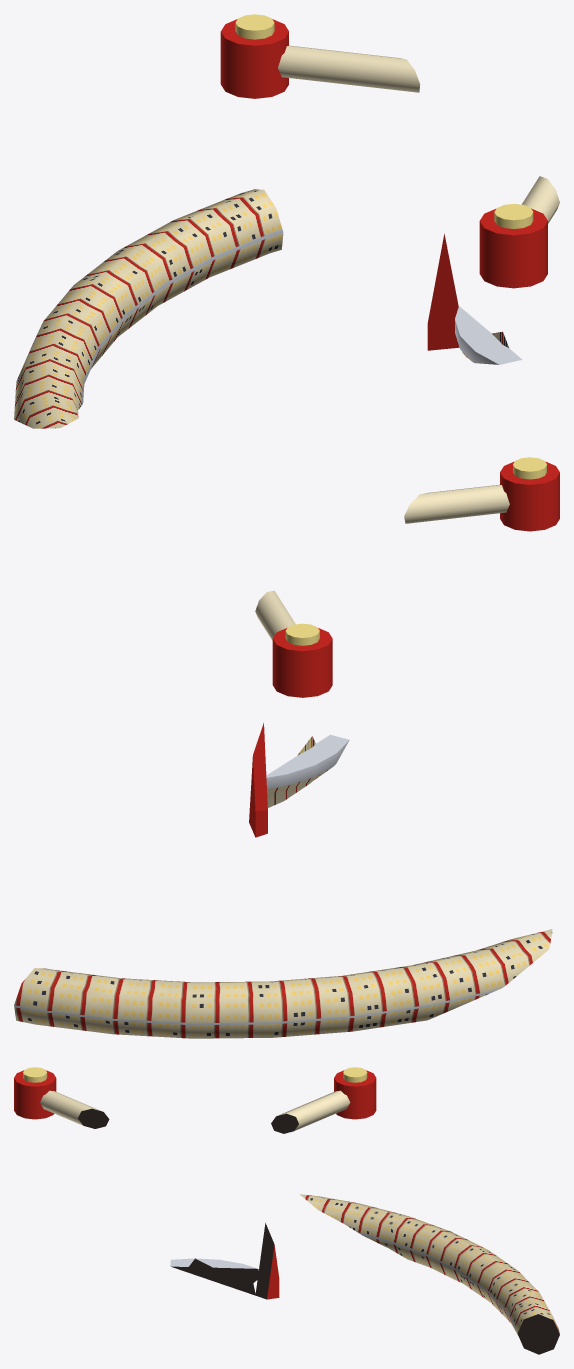
File: guard_station_debris2.obj
The picture shows the model from 3 angles, top to bottom: view 1: azimuth 30°, elevation 25°; view 2: azimuth 150°, elevation 25°; view 3: azimuth 270°, elevation 25°; orthographic projection. The views are drawn at different scales.
Visible parts, largest first — view 1: ring, cradle, arm, buttress315, tower, cradle_light; view 2: ring, cradle, arm, tower, buttress315, cradle_light; view 3: ring, arm, cradle, tower, buttress315, cradle_light.
Boxes of the visible parts, x1,y1,x2,y2 form: ring: [14, 189, 283, 428]; cradle: [220, 19, 547, 288]; arm: [278, 45, 559, 223]; buttress315: [427, 233, 459, 350]; tower: [455, 306, 522, 364]; cradle_light: [235, 14, 533, 228]; ring: [14, 929, 552, 1038]; cradle: [272, 461, 559, 697]; arm: [255, 484, 509, 640]; tower: [266, 734, 349, 807]; buttress315: [249, 723, 267, 837]; cradle_light: [285, 457, 546, 645]; ring: [300, 1194, 559, 1354]; arm: [40, 1090, 350, 1133]; cradle: [14, 1070, 376, 1119]; tower: [170, 1258, 258, 1295]; buttress315: [255, 1223, 279, 1299]; cradle_light: [23, 1067, 367, 1082].
Bounding box in the file's own units: 98.67 × 85 × 181.
Materials: 6 (1 with a texture image).
